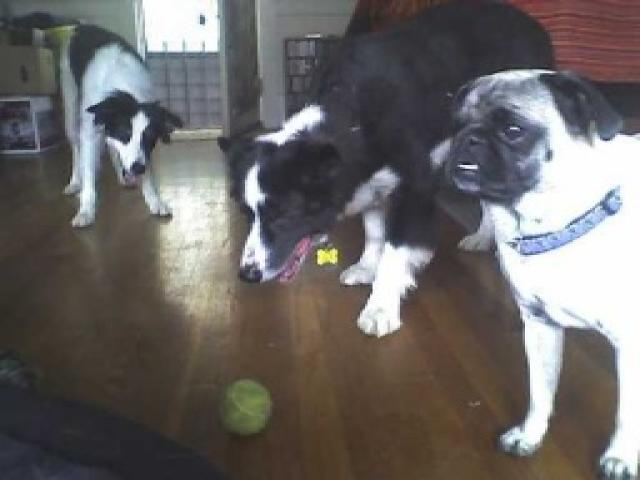tennis-ball: (217, 378, 271, 437)
